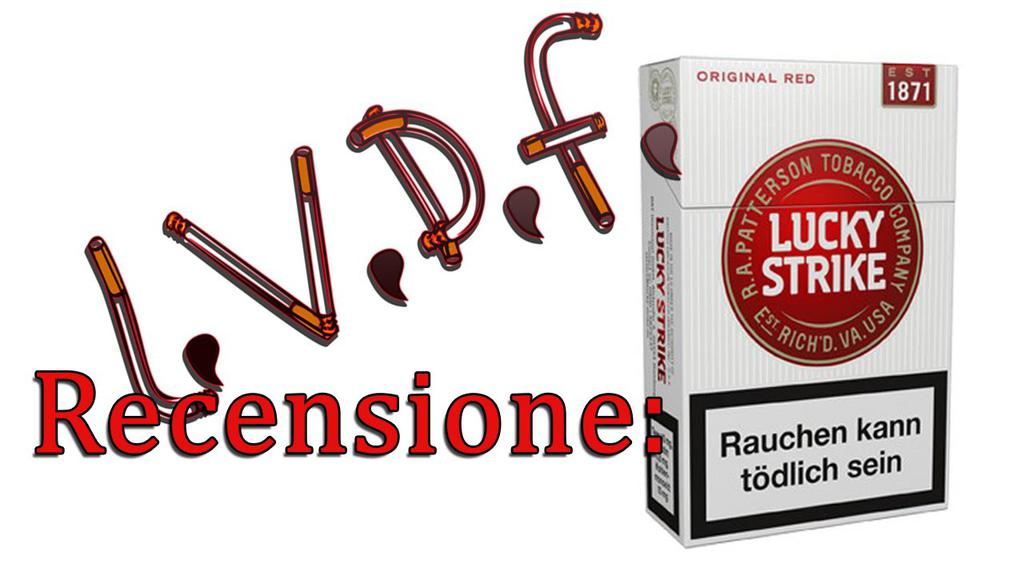lucky_strike_red: (677, 58, 938, 510)
